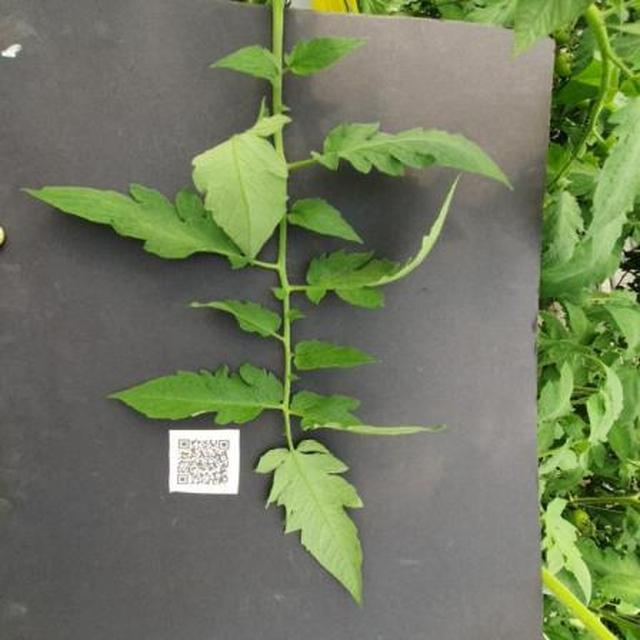Healthy Leaf: (100, 47, 589, 640)
